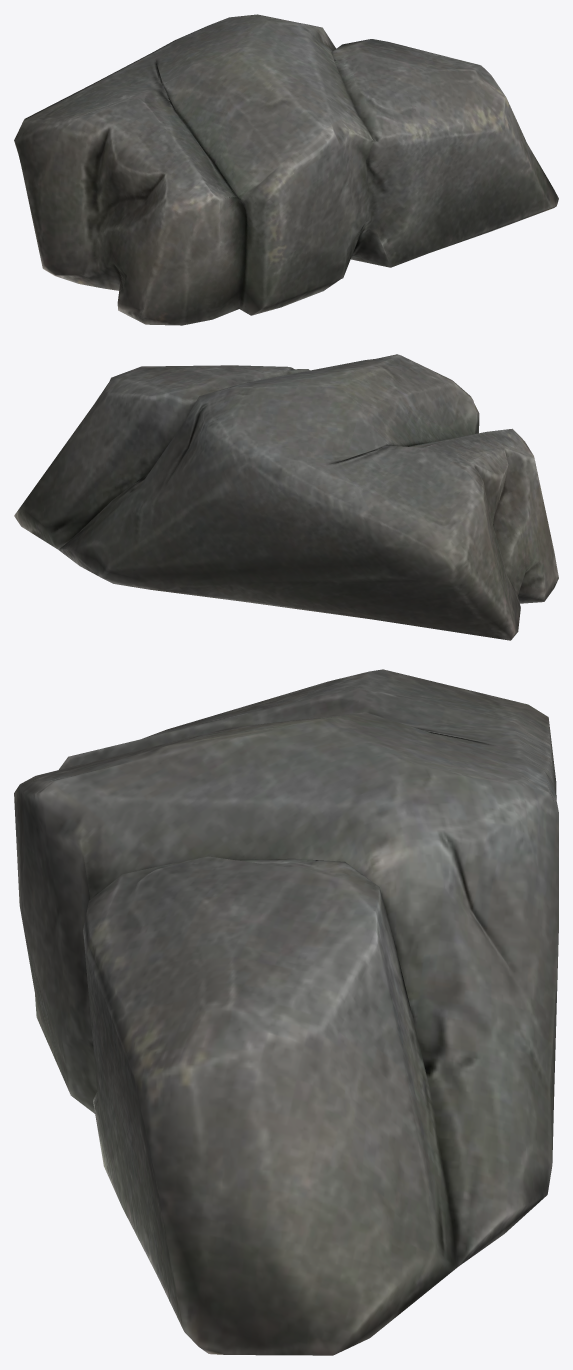
Rendered from rock1.glb.
3 renders of one model, top to bottom at view 1: azimuth 30°, elevation 25°; view 2: azimuth 150°, elevation 25°; view 3: azimuth 270°, elevation 25°, orthographic. The views are drawn at different scales.
Visible parts, largest first — view 1: Rock_Low_Poly_0; view 2: Rock_Low_Poly_0; view 3: Rock_Low_Poly_0.
Part boxes in pixels (x1=…): Rock_Low_Poly_0: x1=14, y1=14, x2=558, y2=325; Rock_Low_Poly_0: x1=14, y1=354, x2=558, y2=640; Rock_Low_Poly_0: x1=14, y1=669, x2=558, y2=1355.
Bounding box in the file's own units: 1.85 × 0.7467 × 0.97.
Materials: 1 (1 with a texture image).
